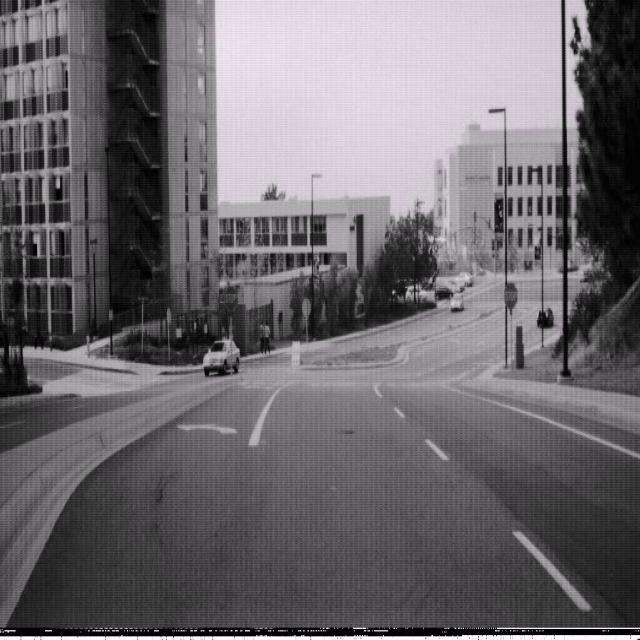stop: (503, 280, 518, 312), (223, 283, 238, 313)
